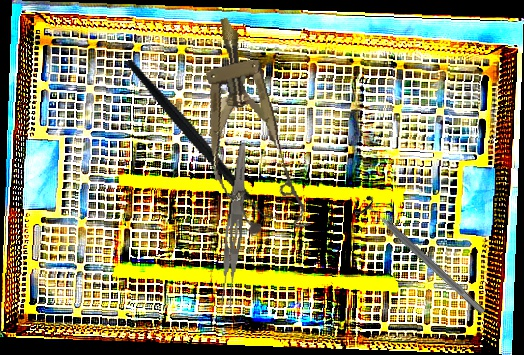Chopper: (122, 28, 284, 252)
Dressing Forceps: (217, 143, 250, 309)
Fixation Ring: (352, 193, 492, 322)
Speculum: (183, 9, 312, 243)
